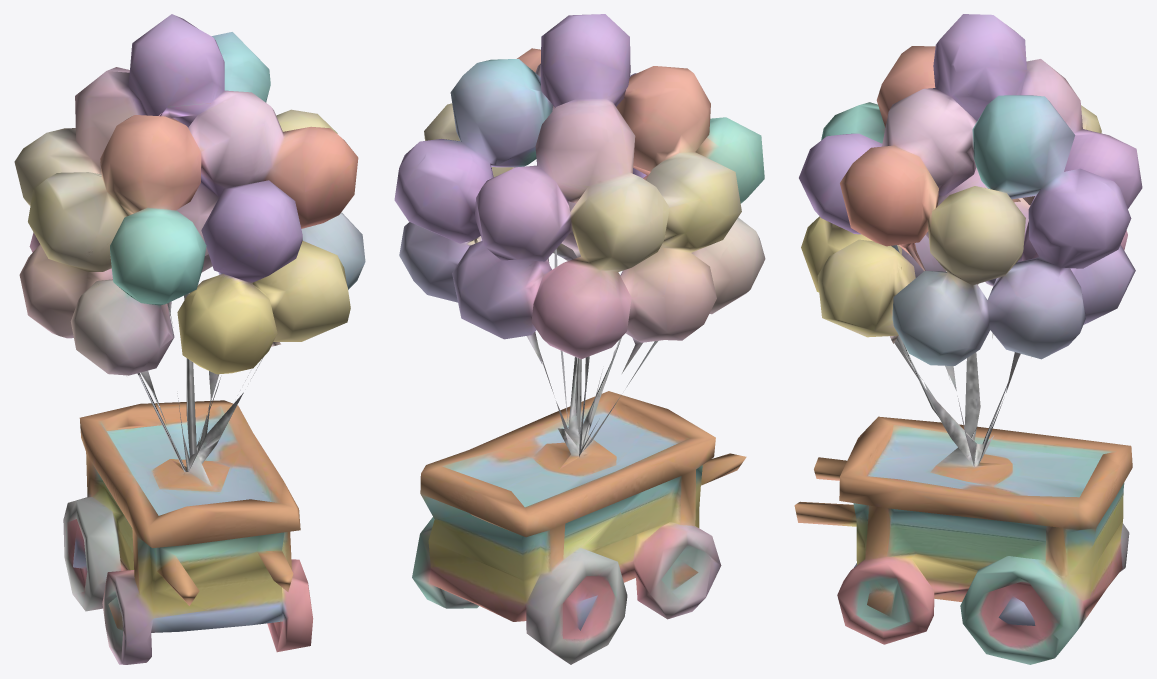
Rendered from chariot-ballons.glb.
3 views of the same model, side by side, from view 1: azimuth 30°, elevation 25°; view 2: azimuth 150°, elevation 25°; view 3: azimuth 270°, elevation 25° (orthographic).
Parts seen in each view (by area): view 1: tripo_node_c50193ef-4974-4ff4-8f8d-5299db8c7d8a; view 2: tripo_node_c50193ef-4974-4ff4-8f8d-5299db8c7d8a; view 3: tripo_node_c50193ef-4974-4ff4-8f8d-5299db8c7d8a.
Boxes of the visible parts, x1,y1,x2,y2 form: tripo_node_c50193ef-4974-4ff4-8f8d-5299db8c7d8a: (14,14,365,664); tripo_node_c50193ef-4974-4ff4-8f8d-5299db8c7d8a: (394,14,765,664); tripo_node_c50193ef-4974-4ff4-8f8d-5299db8c7d8a: (794,14,1142,664).
Size of the model in its own units: 0.5281 by 1 by 0.5275.
1 material, 1 textured.
